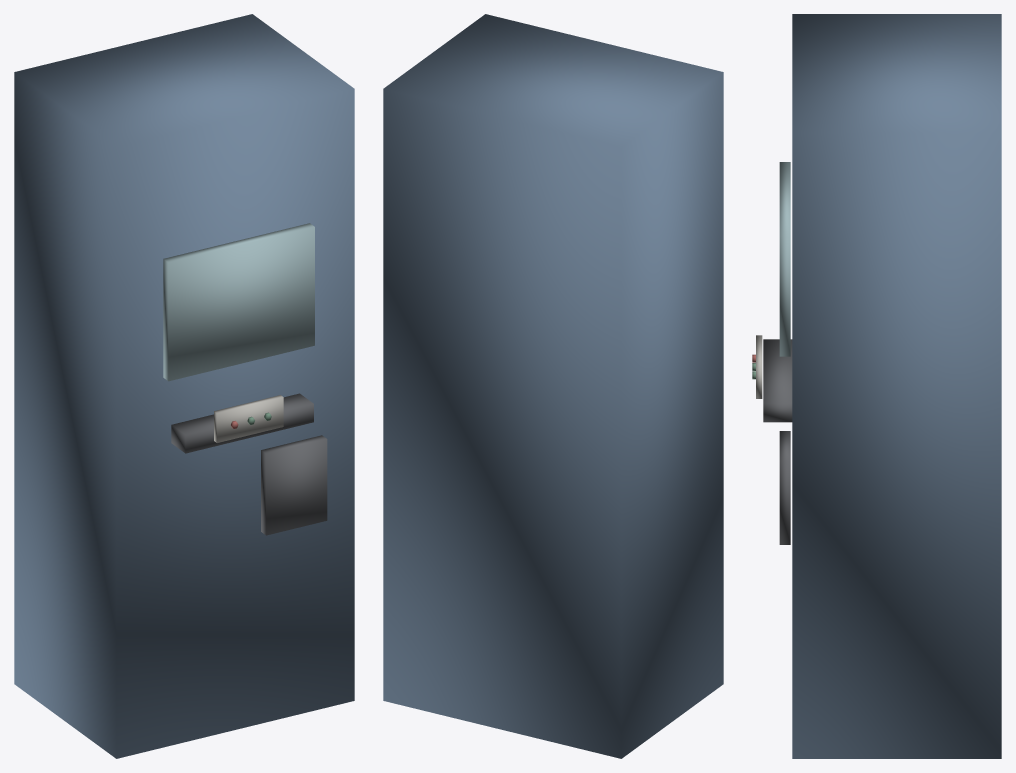
File: atm__tall.glb
3 renders of one model, left to right at view 1: azimuth 30°, elevation 25°; view 2: azimuth 150°, elevation 25°; view 3: azimuth 270°, elevation 25°, orthographic. The views are drawn at different scales.
Parts seen in each view (by area): view 1: world; view 2: world; view 3: world.
Part boxes in pixels (x1,y1,x2,y2): world: (14, 14, 354, 758); world: (383, 14, 723, 758); world: (752, 14, 1001, 758).
Bounding box in the file's own units: 0.78 × 1.91 × 0.691.
